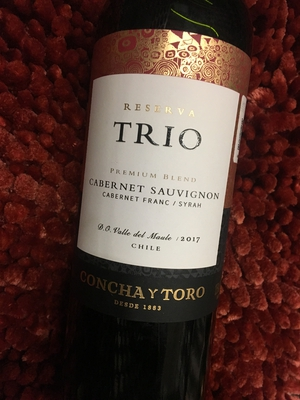trio cabernet sauvignon: (76, 16, 256, 386)
